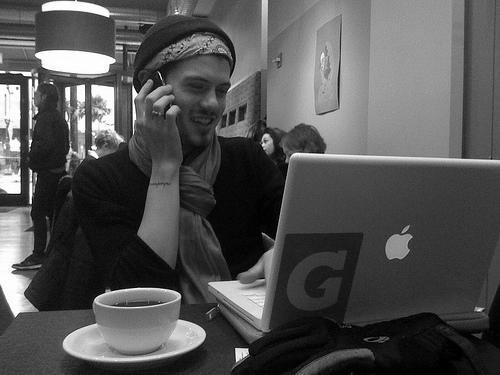glass: (63, 288, 206, 372)
